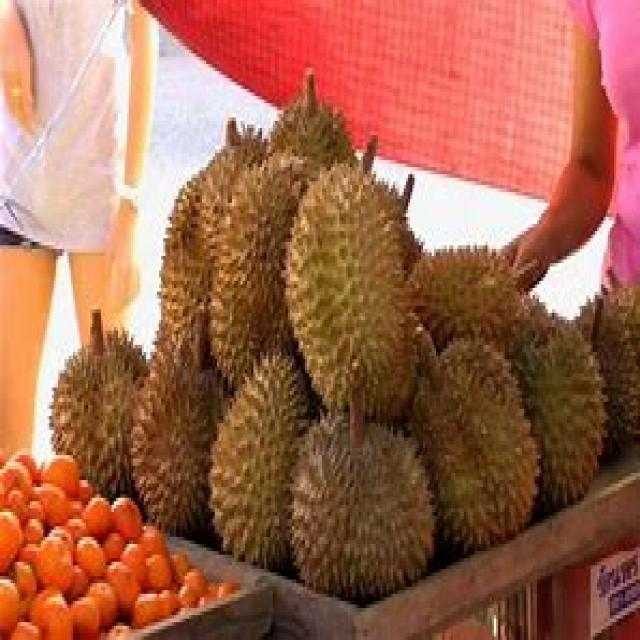mature: (286, 163, 420, 419)
